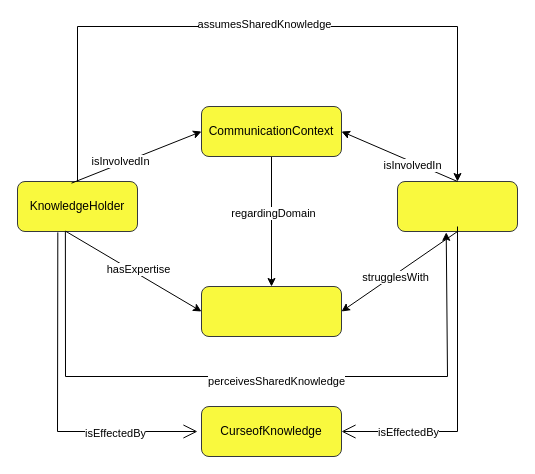
The diagram is 535 pixels wide and 474 high, and some of its shapes have lost their labels. Here are the shapes that lost their labels. From the top down, the centre of each, then its label:
the point at 457,206: KnowledgeRecipient
the point at 271,311: Domain
